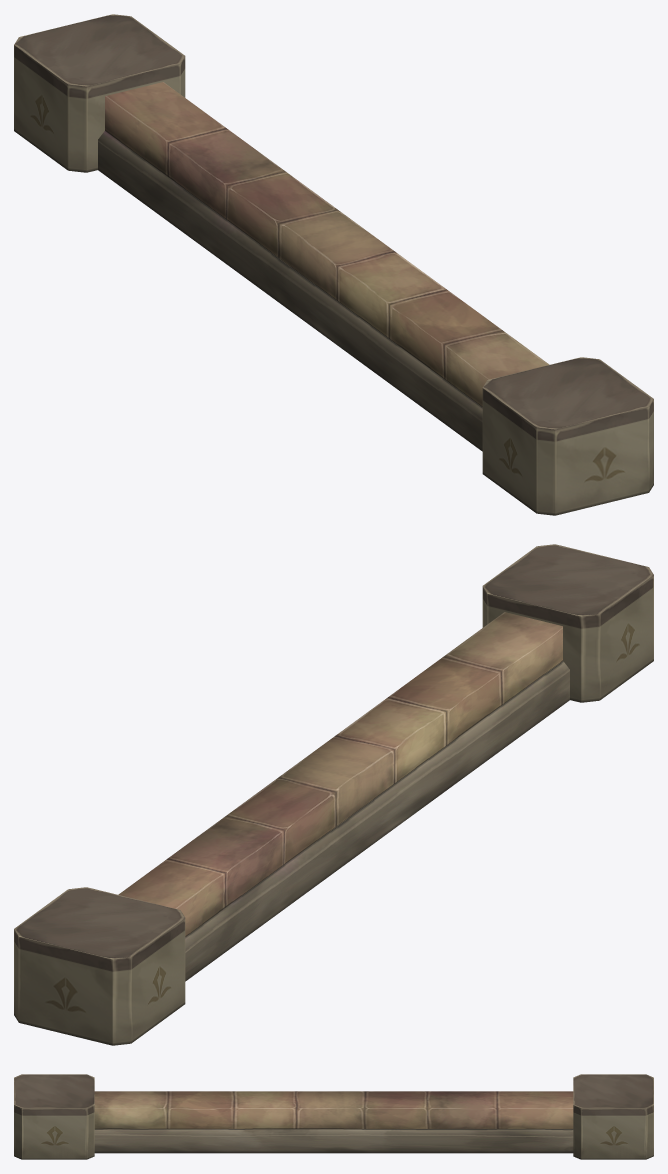
The model's file is bricks2.fbx.
3 renders of one model, top to bottom at view 1: azimuth 30°, elevation 25°; view 2: azimuth 150°, elevation 25°; view 3: azimuth 270°, elevation 25°, orthographic. The views are drawn at different scales.
Visible parts, largest first — view 1: polySurface725; view 2: polySurface725; view 3: polySurface725.
Boxes of the visible parts, x1=… form: polySurface725: x1=14, y1=14, x2=653, y2=515; polySurface725: x1=14, y1=544, x2=653, y2=1045; polySurface725: x1=14, y1=1074, x2=653, y2=1159.
Bounding box in the file's own units: 0.4786 × 0.3359 × 3.79.
